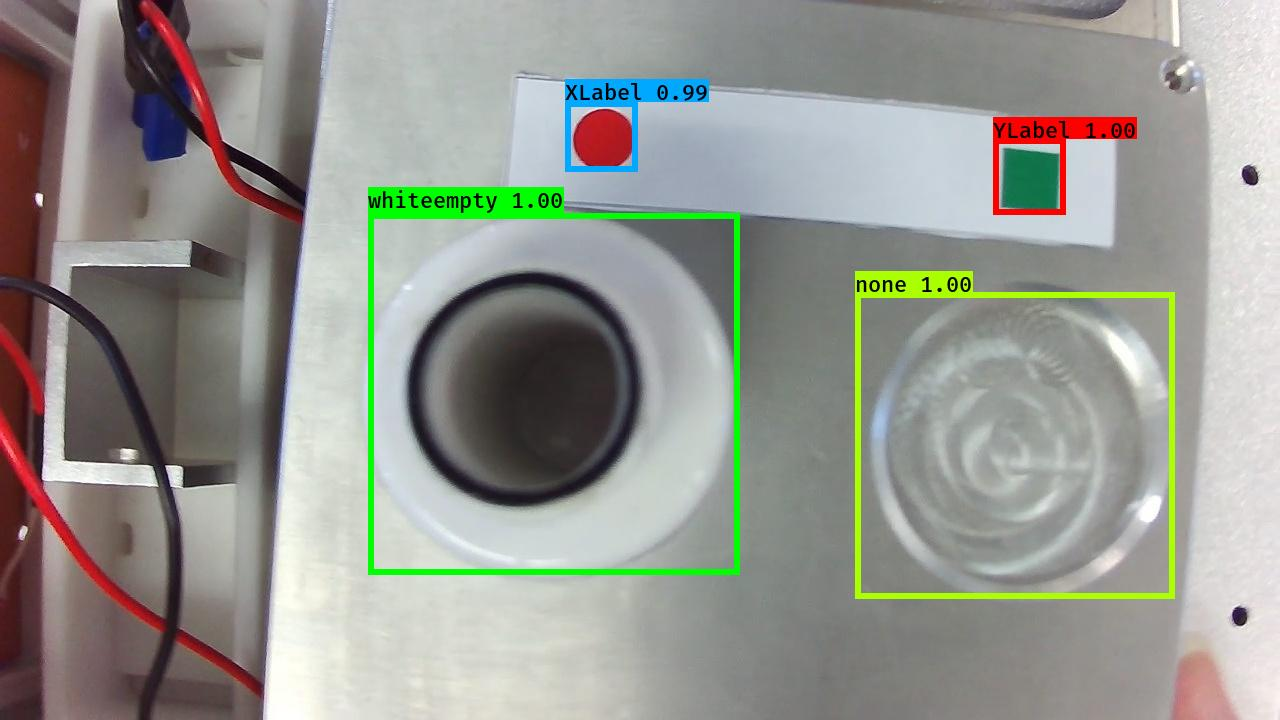XLabel: (568, 105, 637, 175)
YLabel: (999, 145, 1063, 218)
none: (864, 276, 1178, 606)
whiteempty: (355, 209, 747, 592)
